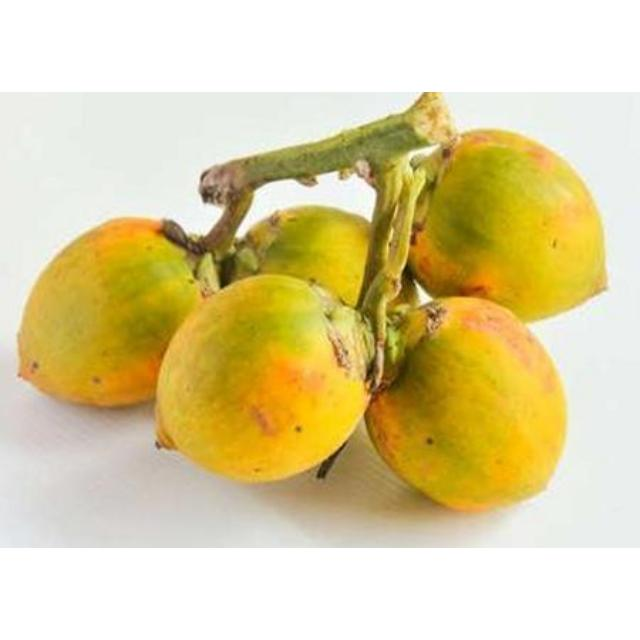good: (155, 274, 414, 486), (360, 295, 569, 514), (408, 130, 610, 325), (16, 217, 203, 411), (249, 206, 371, 305)
